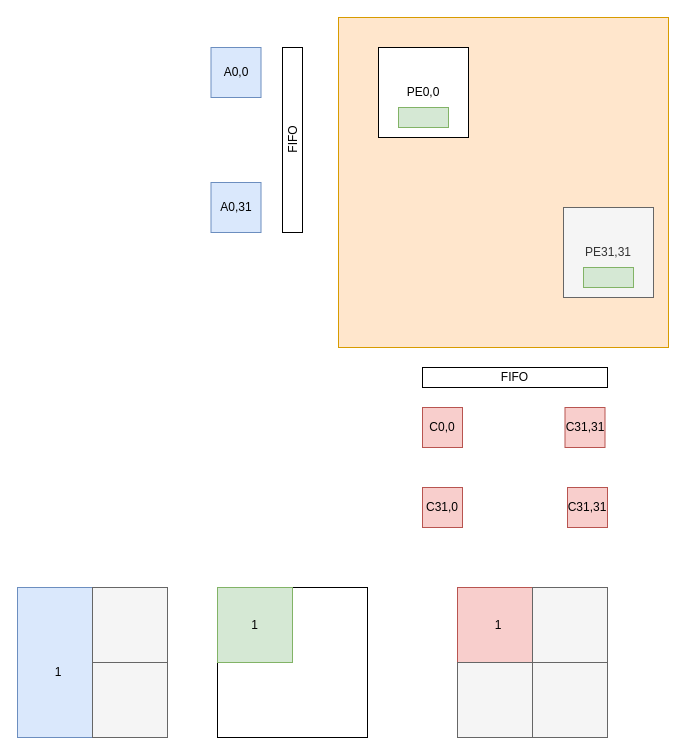
Image size: 686x755. Some labels were removed from this diagram. Each missing label, with the centre of its shape:
"B0,0" belongs at (423,117).
"B31,31" belongs at (608,277).
